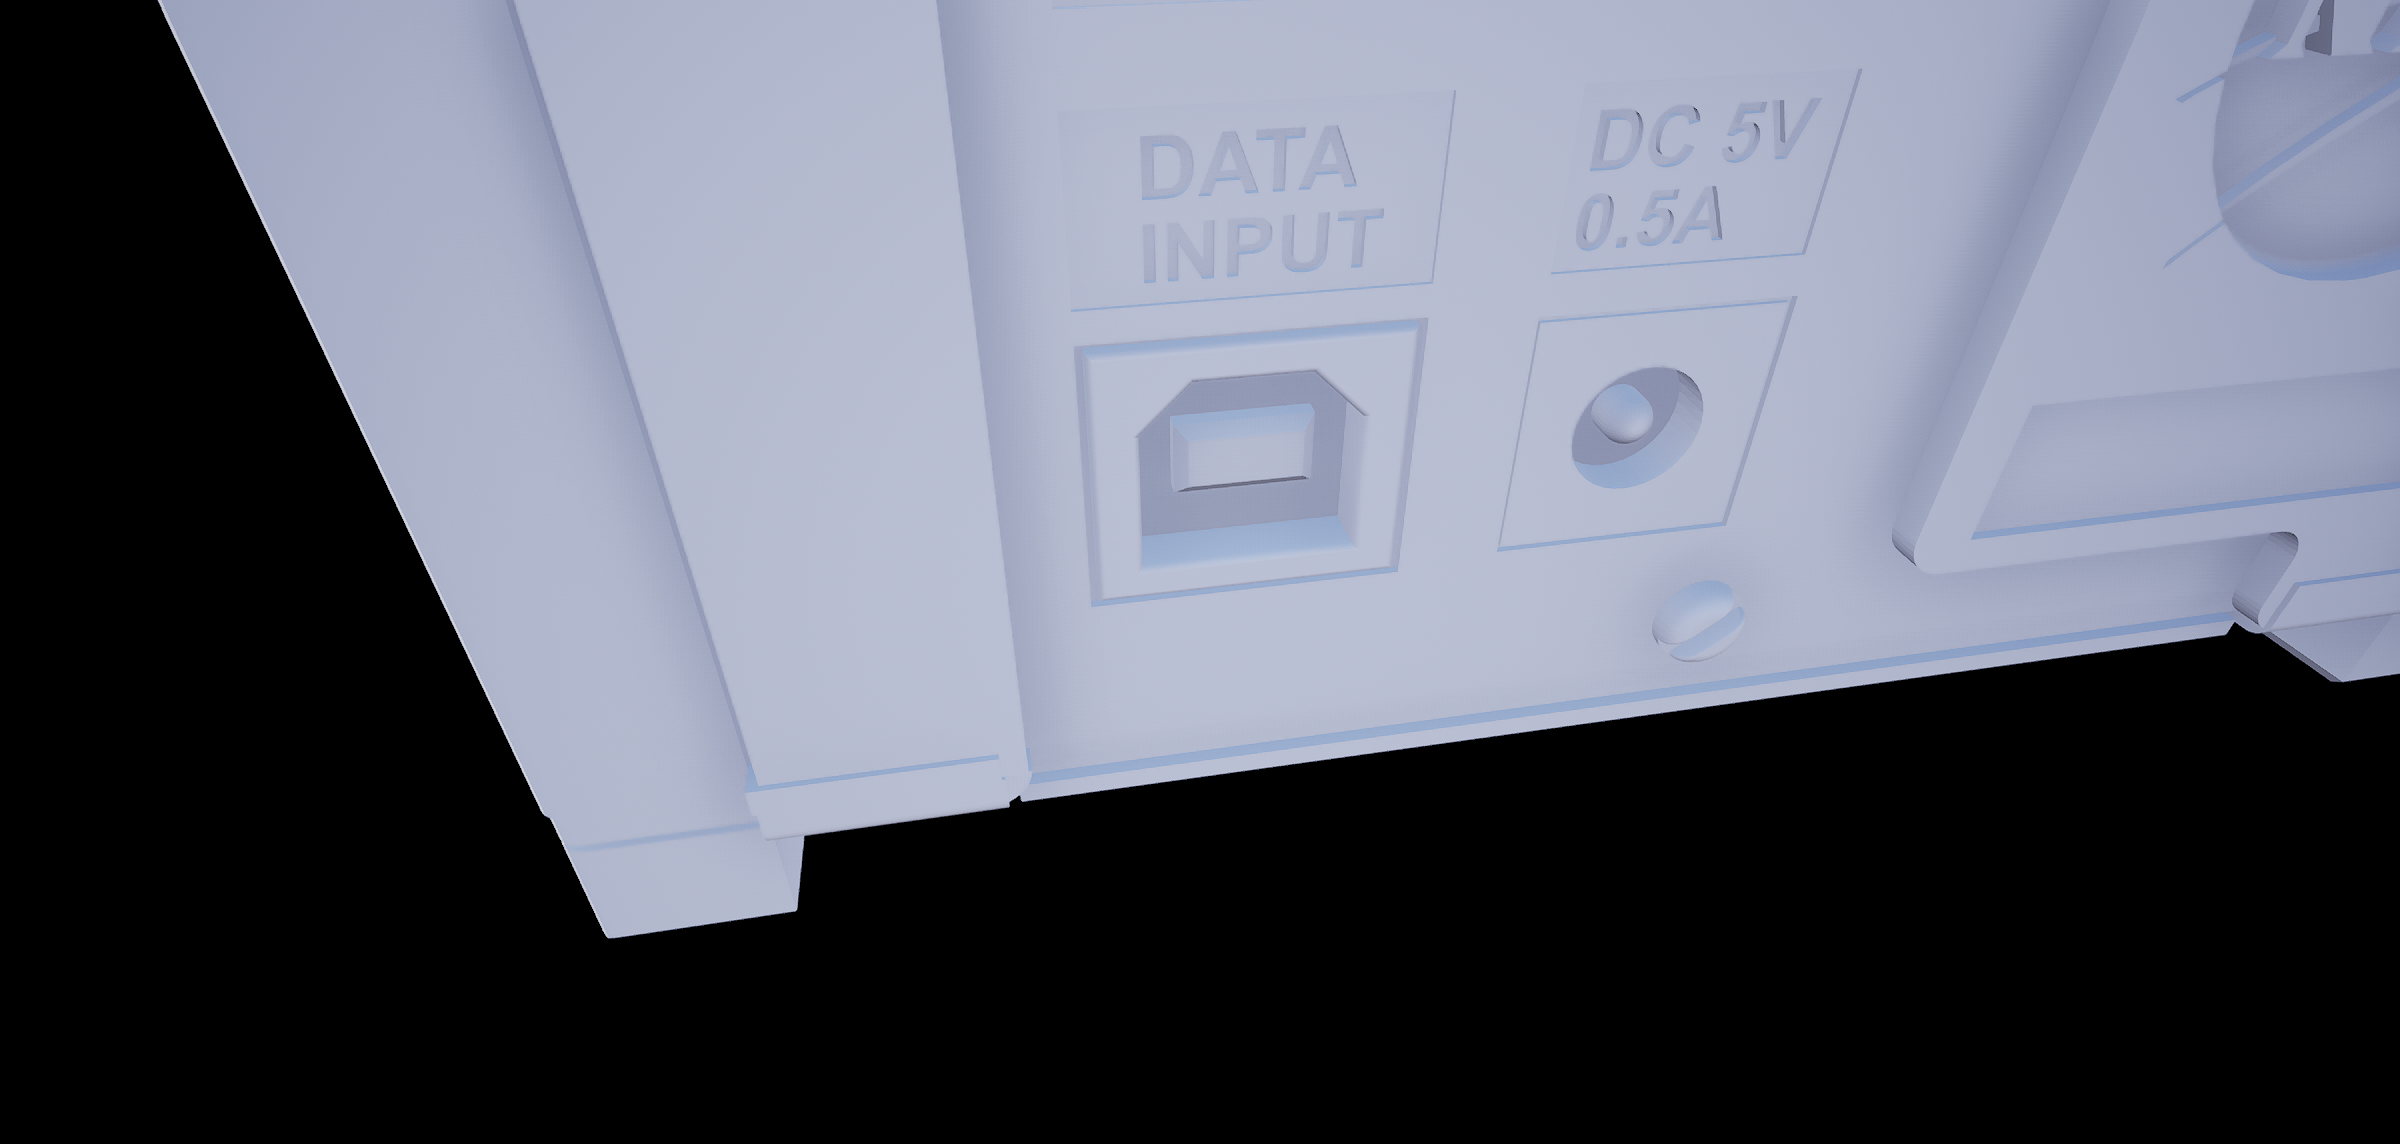dc: (1560, 357, 1705, 501)
usb: (1123, 364, 1387, 567)
